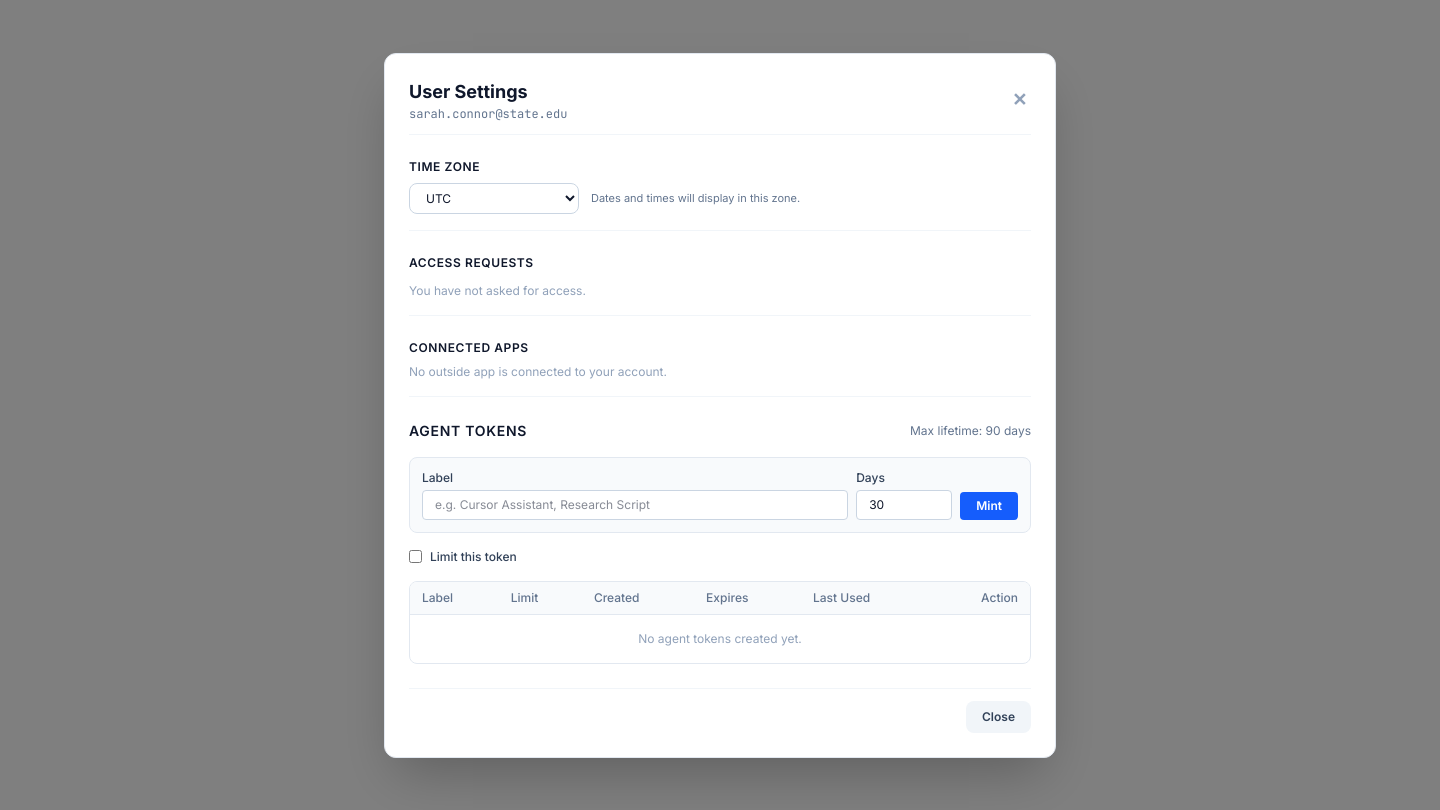
Test: Phase 9: Settings Panes › localStorage holds no value equal to the minted token
Expected: the form with test id "agent-token-form" is shown, [409,456,1031,532]
In the field with placeholder "e.g. Cursor Assistant, Research Script": coordinates (635, 504) [422,490,848,520], type "Confidential Token"
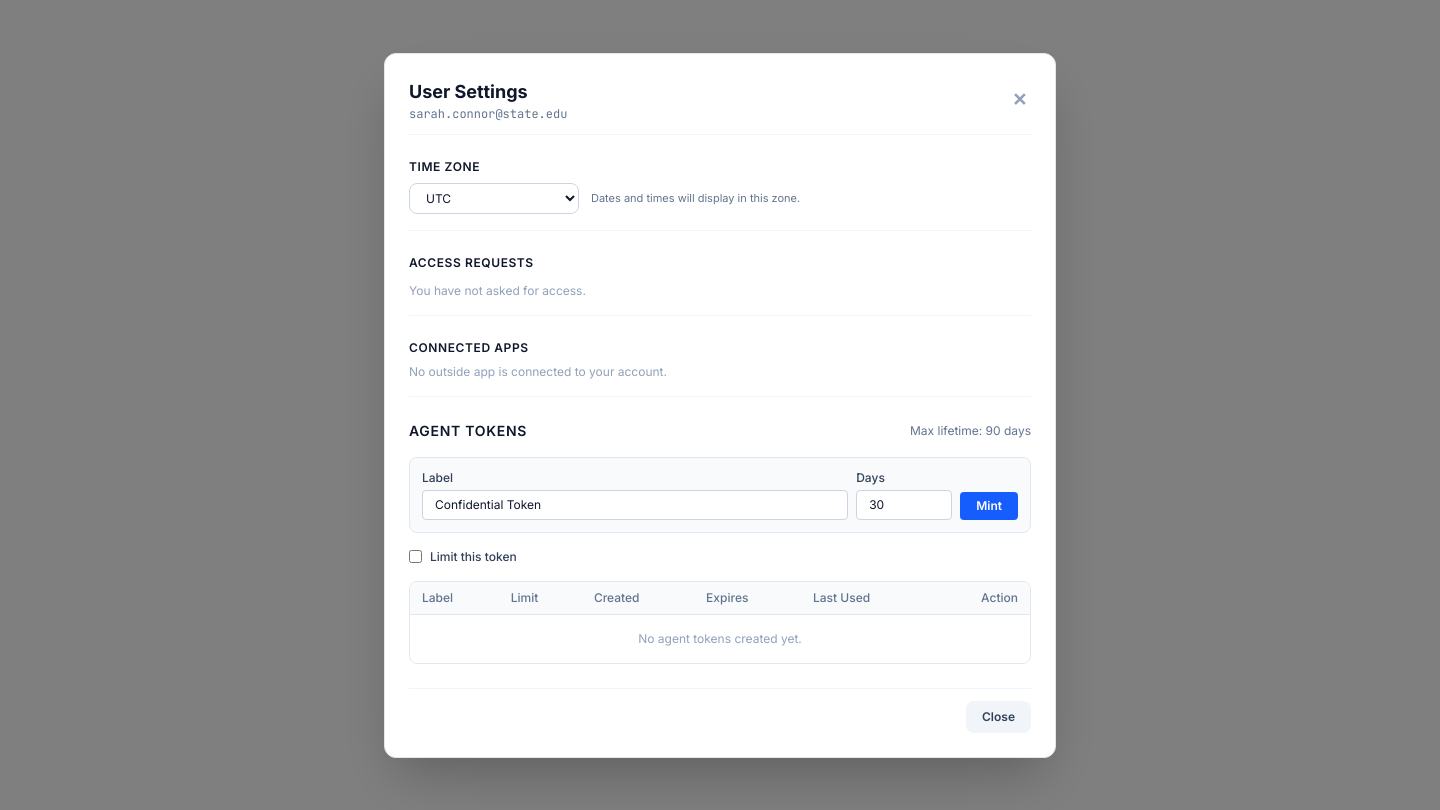
Submit the form with test id "agent-token-form", box [409,456,1031,532]
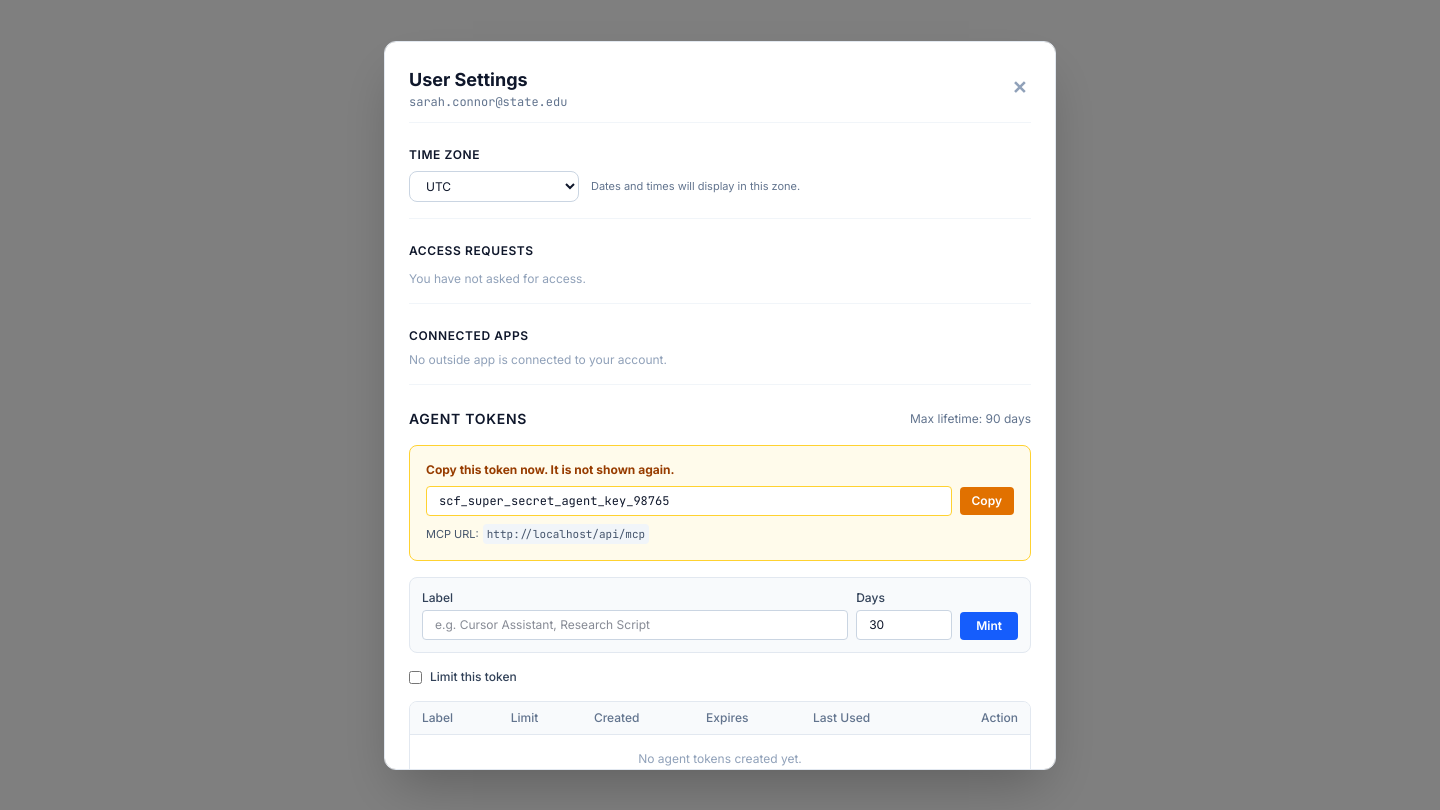
Result: the field with test id "agent-token-secret" is shown at [426,486,952,516]
